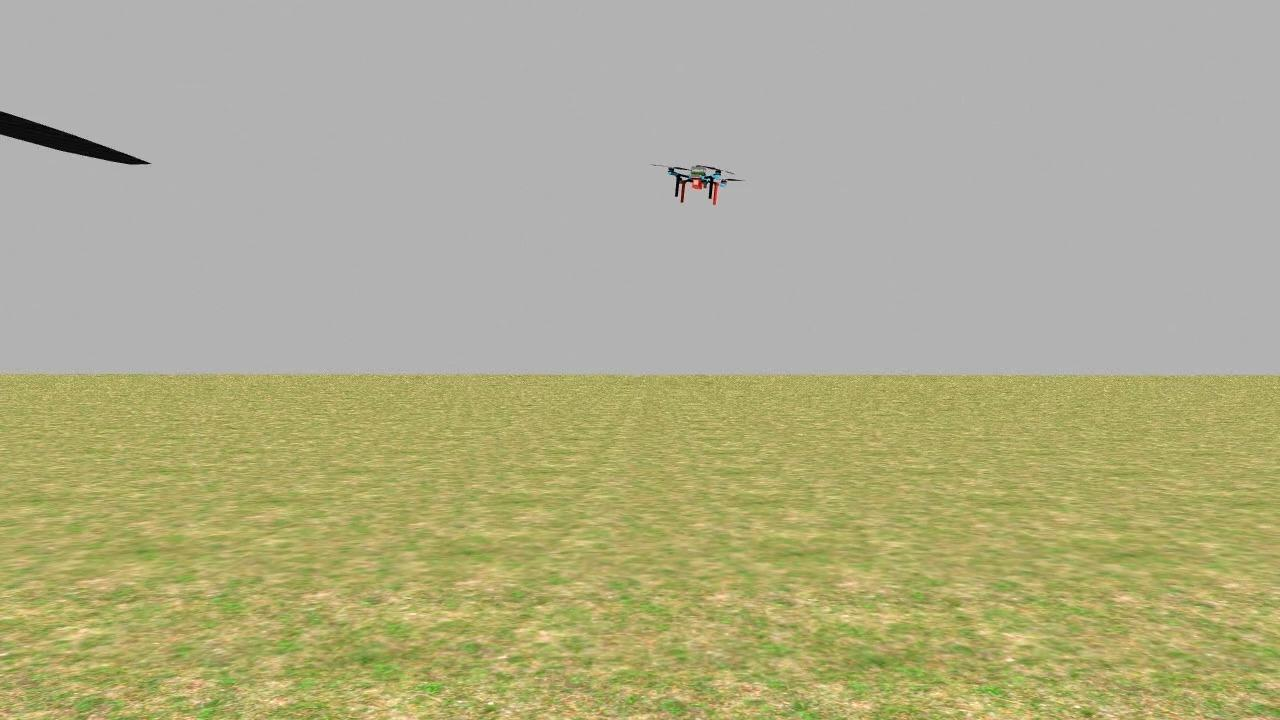UAV: (648, 141, 748, 219)
